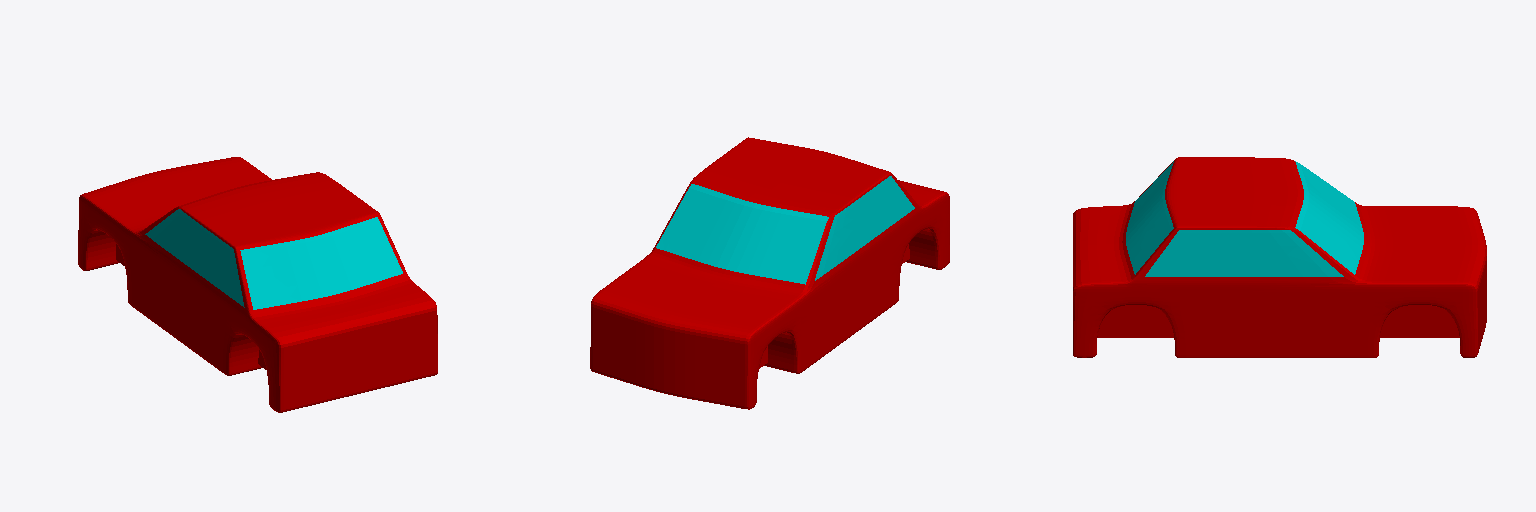
Rendered from car.obj.
3 views of the same model, side by side, from view 1: azimuth 30°, elevation 25°; view 2: azimuth 150°, elevation 25°; view 3: azimuth 270°, elevation 25° (orthographic).
Visible parts, largest first — view 1: car; view 2: car; view 3: car.
Boxes of the visible parts, <box> form: car: <box>78,157,437,412</box>; car: <box>590,137,949,409</box>; car: <box>1073,157,1486,357</box>.
Bounding box in the file's own units: 1.6 × 1.22 × 3.58.